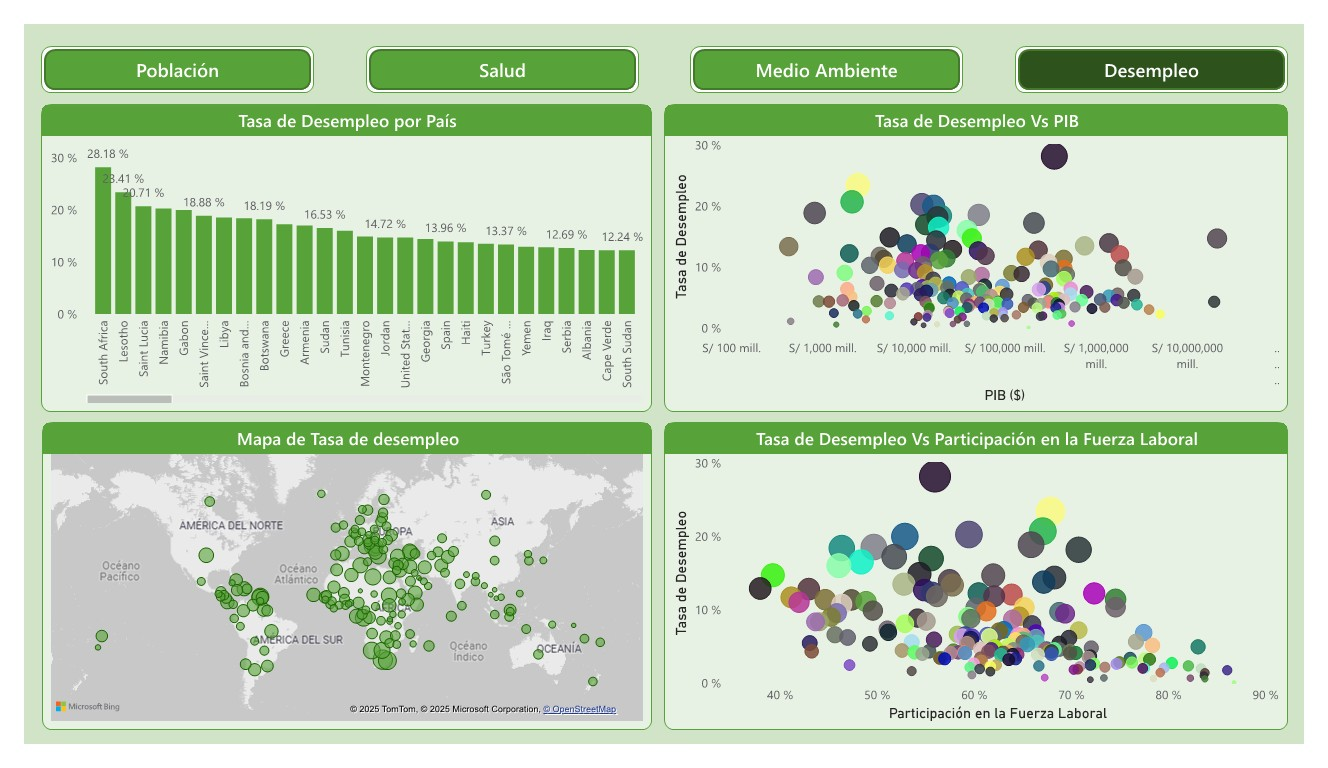

The page's visual inventory and layout, read from the dashboard file:
{"tool":"powerbi","page":{"name":"Desempleo","canvas":[1280,720],"ordinal":3},"visuals":[{"type":"columnChart","title":"Tasa de Desempleo por País","fields":{"Category":["world-data-2023.Country"],"Y":["metricas.Tasa de Desempleo"]},"box":[17,80,611,308],"z":2000},{"type":"shape","box":[17,22,273,47],"z":2001},{"type":"shape","box":[341.7,22,273,47],"z":2002},{"type":"shape","box":[991,22,273,47],"z":2003},{"type":"shape","box":[666.3,22,273,47],"z":2004},{"type":"scatterChart","title":"Tasa de Desempleo Vs PIB","fields":{"X":["world-data-2023.GDP ($)"],"Series":["world-data-2023.Country"],"Y":["metricas.Tasa de Desempleo"],"Size":["metricas.Tasa de Desempleo"]},"box":[640,80,624,308],"z":2005},{"type":"map","title":"Mapa de Tasa de desempleo","fields":{"Category":["world-data-2023.Country"],"Size":["metricas.Tasa de Desempleo"]},"box":[18,398,610,308],"z":2006},{"type":"scatterChart","title":"Tasa de Desempleo Vs Participación en la Fuerza Laboral","fields":{"Series":["world-data-2023.Country"],"Y":["metricas.Tasa de Desempleo"],"Size":["metricas.Tasa de Desempleo"],"X":["metricas.Participación en la Fuerza Laboral"]},"box":[640,398,624,308],"z":2007}]}

Visuals, with their boxes in screenshot pixels (x1, y1, x2, y2), scaled from the page's 1280x720 canvas onto the 1328x768 screenshot:
"Tasa de Desempleo por País" columnChart: bbox(18, 85, 652, 414)
shape: bbox(18, 23, 301, 74)
shape: bbox(355, 23, 638, 74)
shape: bbox(1028, 23, 1311, 74)
shape: bbox(691, 23, 975, 74)
"Tasa de Desempleo Vs PIB" scatterChart: bbox(664, 85, 1311, 414)
"Mapa de Tasa de desempleo" map: bbox(19, 425, 652, 753)
"Tasa de Desempleo Vs Participación en la Fuerza Laboral" scatterChart: bbox(664, 425, 1311, 753)
